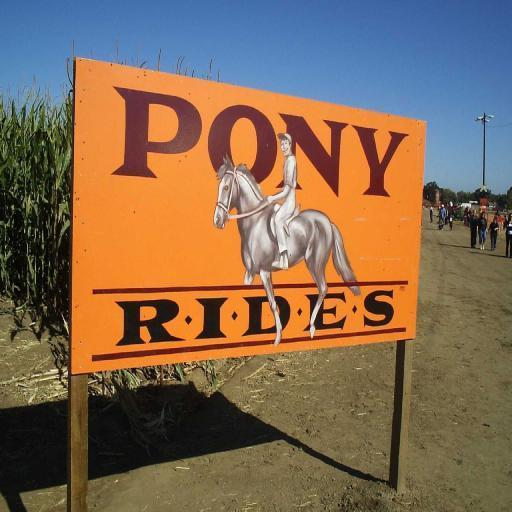horse: (212, 150, 362, 348)
